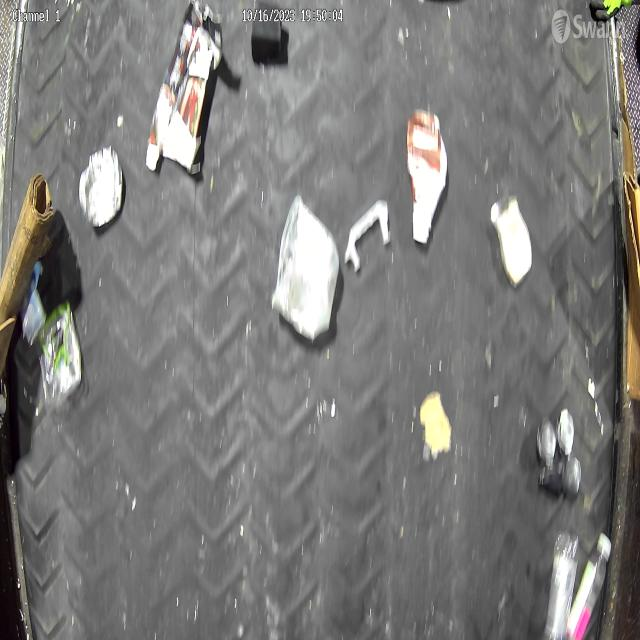can: (78, 144, 124, 226)
plastic_bottle: (566, 531, 613, 640), (543, 531, 579, 640)
